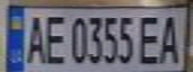0: (66, 12, 87, 65)
3: (84, 12, 106, 65)
5: (118, 12, 139, 65), (103, 12, 121, 65)
A: (157, 11, 187, 65), (21, 11, 48, 65)
E: (136, 11, 163, 65), (42, 11, 69, 65)
